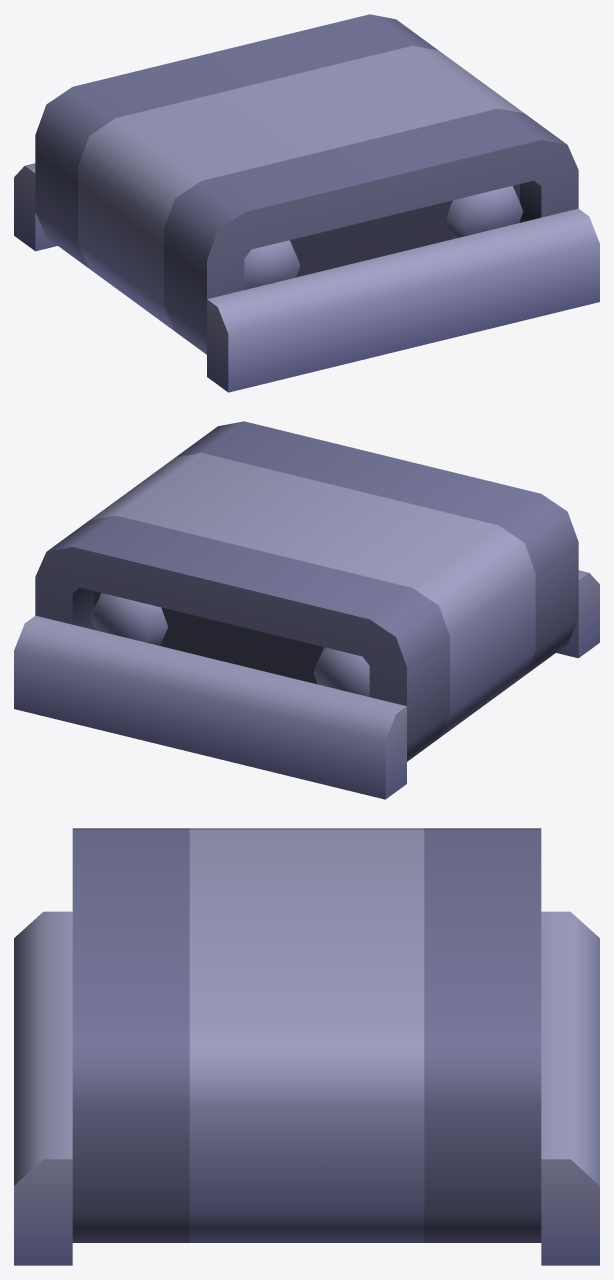
File: kenney-factory-conveyor-stripe-sides.glb
3 views of the same model, one above another, from view 1: azimuth 30°, elevation 25°; view 2: azimuth 150°, elevation 25°; view 3: azimuth 270°, elevation 25° (orthographic). The views are drawn at different scales.
Parts seen in each view (by area): view 1: conveyor-stripe-sides; view 2: conveyor-stripe-sides; view 3: conveyor-stripe-sides.
Part boxes in pixels (x1,y1,x2,y2): conveyor-stripe-sides: [14, 14, 599, 392]; conveyor-stripe-sides: [14, 421, 599, 799]; conveyor-stripe-sides: [14, 828, 599, 1265].
Size of the model in its own units: 1 by 0.3999 by 1.
1 material, 1 textured.
